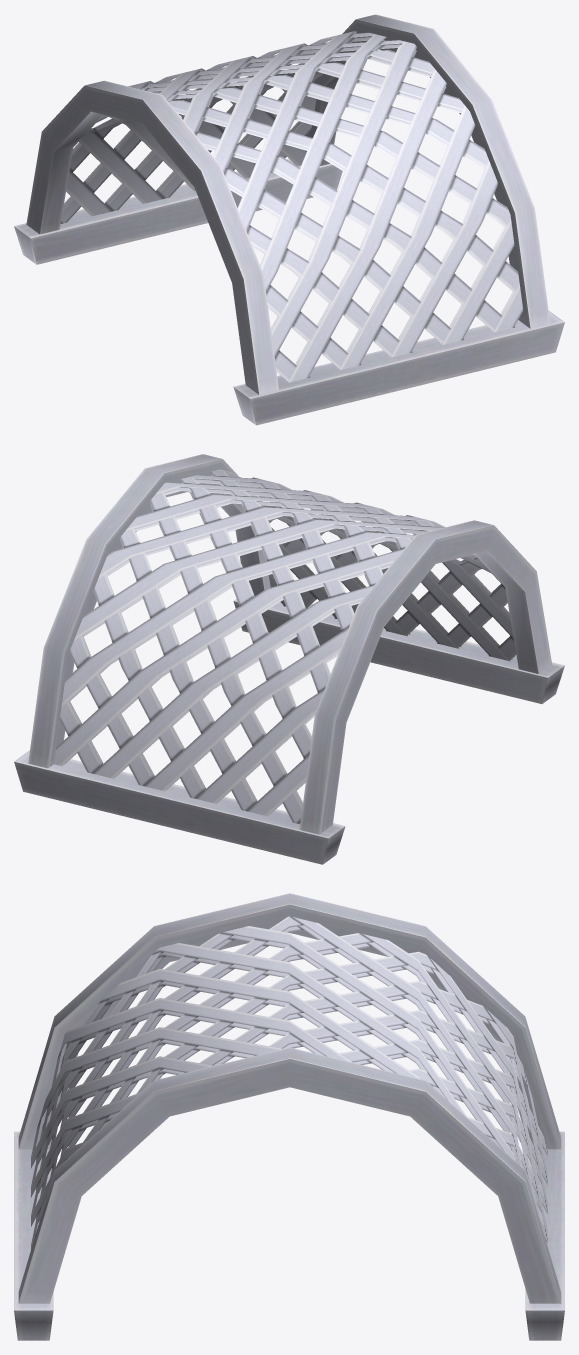
File: INST_HTOWN_LATTICEARCH.fbx
The picture shows the model from 3 angles, top to bottom: view 1: azimuth 30°, elevation 25°; view 2: azimuth 150°, elevation 25°; view 3: azimuth 270°, elevation 25°; orthographic projection. The views are drawn at different scales.
Visible parts, largest first — view 1: INST_HTOWN_LATTICEARCH; view 2: INST_HTOWN_LATTICEARCH; view 3: INST_HTOWN_LATTICEARCH.
Part boxes in pixels (left/top/right/bottom): INST_HTOWN_LATTICEARCH: left=14, top=14, right=564, bottom=425; INST_HTOWN_LATTICEARCH: left=14, top=454, right=564, bottom=864; INST_HTOWN_LATTICEARCH: left=14, top=893, right=564, bottom=1340.
Size of the model in its own units: 9524 by 6923 by 12392.
Materials: 2 (2 with a texture image).
